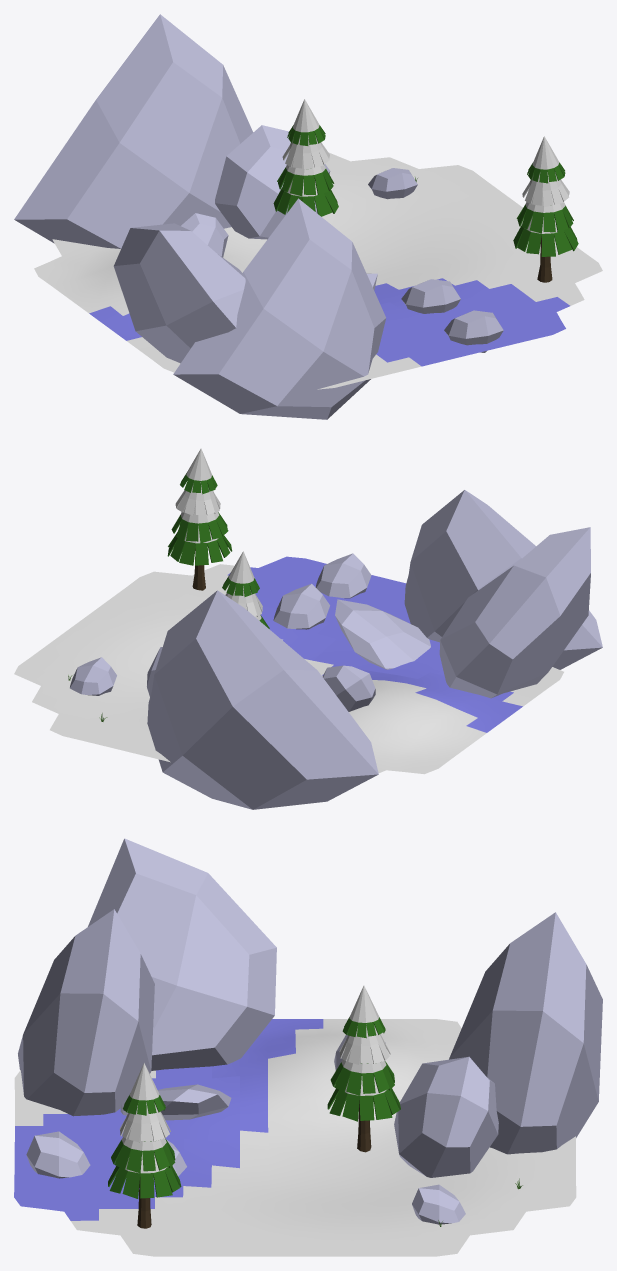
File: Tundra.fbx
The picture shows the model from 3 angles, top to bottom: view 1: azimuth 30°, elevation 25°; view 2: azimuth 150°, elevation 25°; view 3: azimuth 270°, elevation 25°; orthographic projection. The views are drawn at different scales.
Parts seen in each view (by area): view 1: Tree6; view 2: Tree6; view 3: Tree6.
Boxes of the visible parts, box(x1,y1,x2,y2) form: Tree6: box(14, 14, 602, 419); Tree6: box(14, 448, 602, 809); Tree6: box(14, 838, 602, 1256).
Size of the model in its own units: 54.25 by 26.51 by 53.36.
